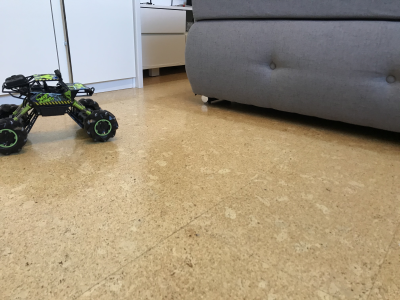remote control car: (1, 66, 120, 158)
